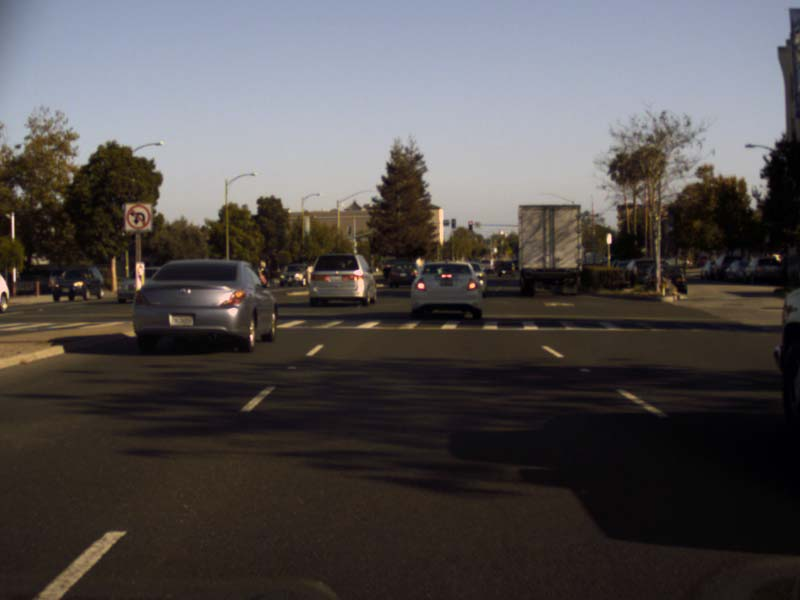Red: (467, 220, 472, 230)
